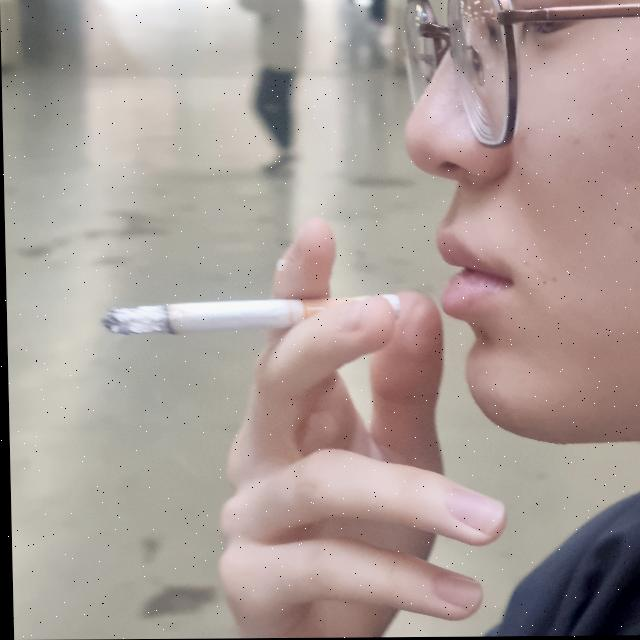cigarette: (100, 301, 403, 334)
